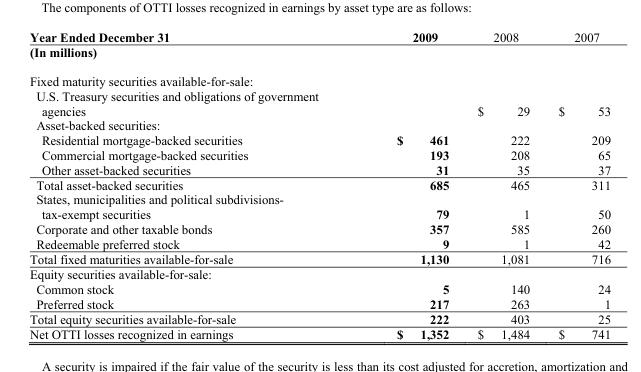table: (28, 29, 610, 341)
table column: (28, 29, 356, 341), (356, 29, 462, 341), (462, 29, 543, 341), (543, 29, 610, 341)
table column header: (28, 29, 610, 44)
table projected row header: (28, 44, 610, 66), (28, 66, 610, 88), (28, 117, 610, 132), (28, 266, 610, 281)
table row: (28, 191, 610, 221), (28, 88, 610, 117), (28, 44, 610, 66), (28, 66, 610, 88), (28, 250, 610, 266), (28, 310, 610, 326), (28, 29, 610, 44), (28, 117, 610, 132), (28, 132, 610, 147), (28, 161, 610, 176), (28, 176, 610, 191), (28, 235, 610, 250), (28, 266, 610, 281), (28, 295, 610, 310), (28, 326, 610, 341), (28, 147, 610, 161), (28, 221, 610, 235), (28, 281, 610, 295)
